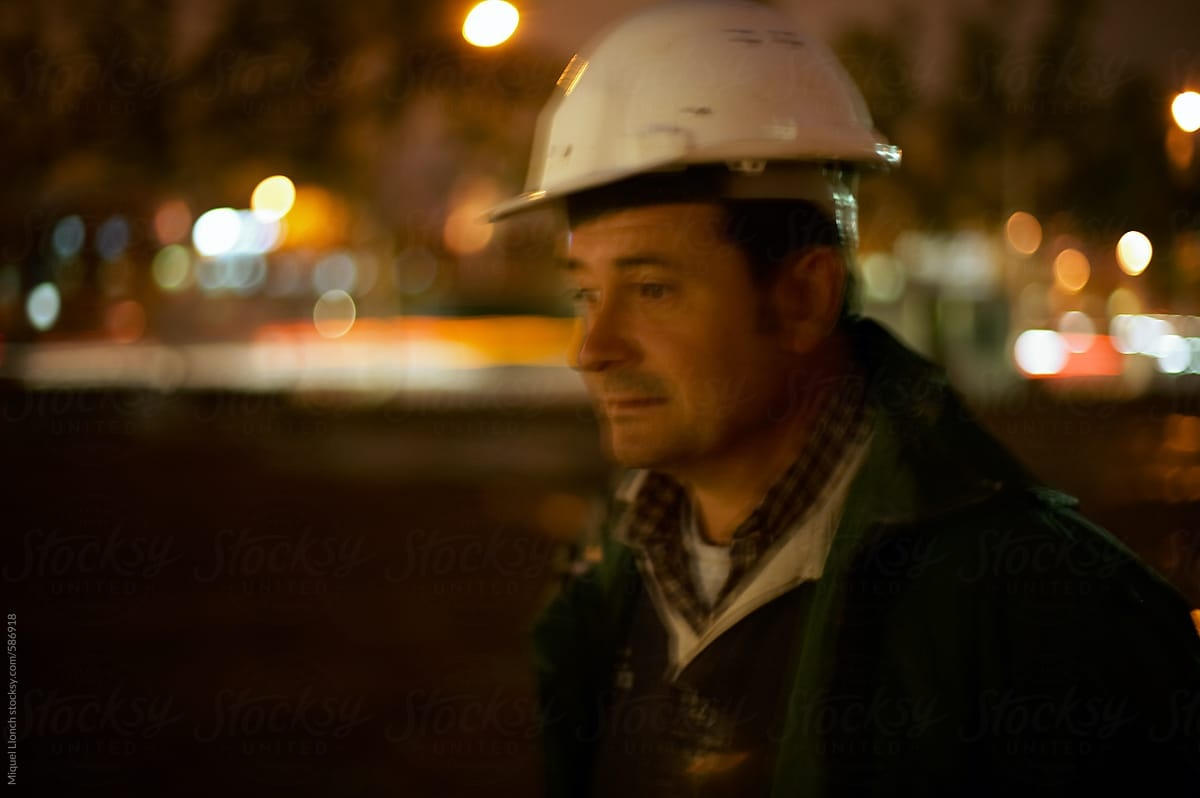white: (523, 13, 896, 469)
